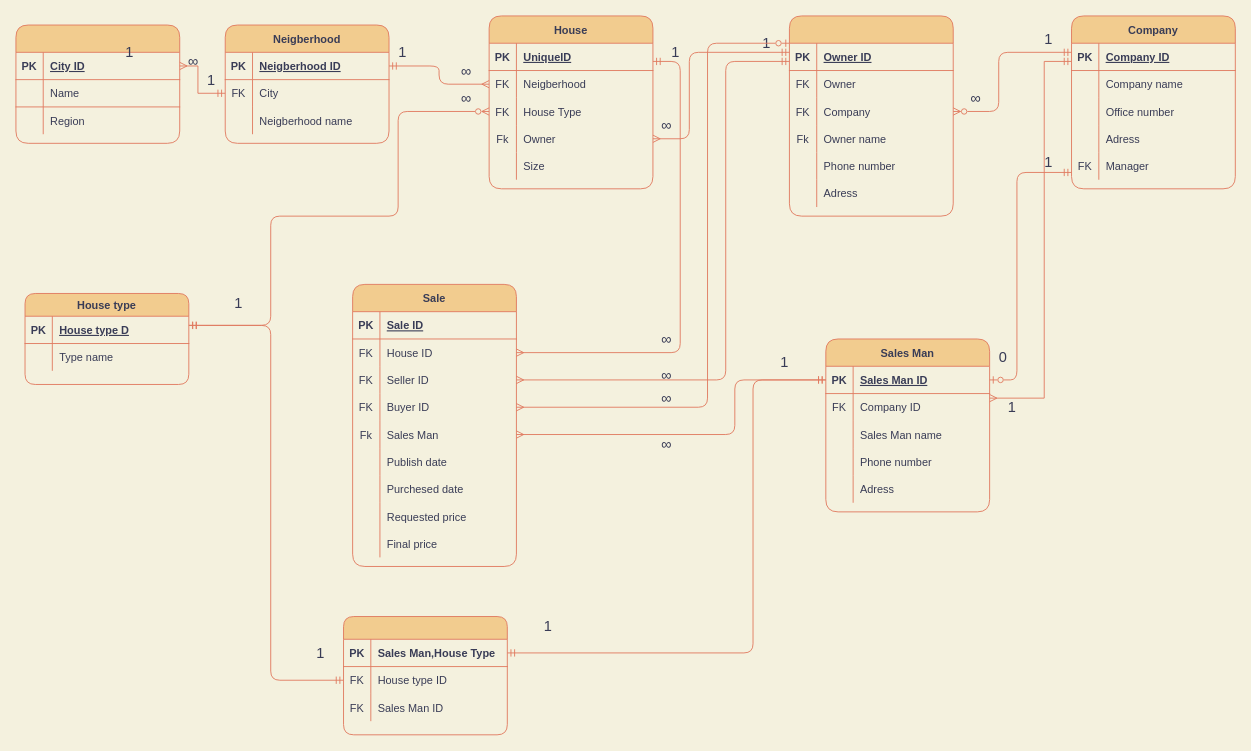
The diagram is 1251 pixels wide and 751 high, and some of its shapes have lost their labels. Each missing label, with the box of its shape:
Cities: (15, 24, 180, 143)
Costumer: (789, 15, 953, 216)
Specialization: (343, 616, 507, 735)
